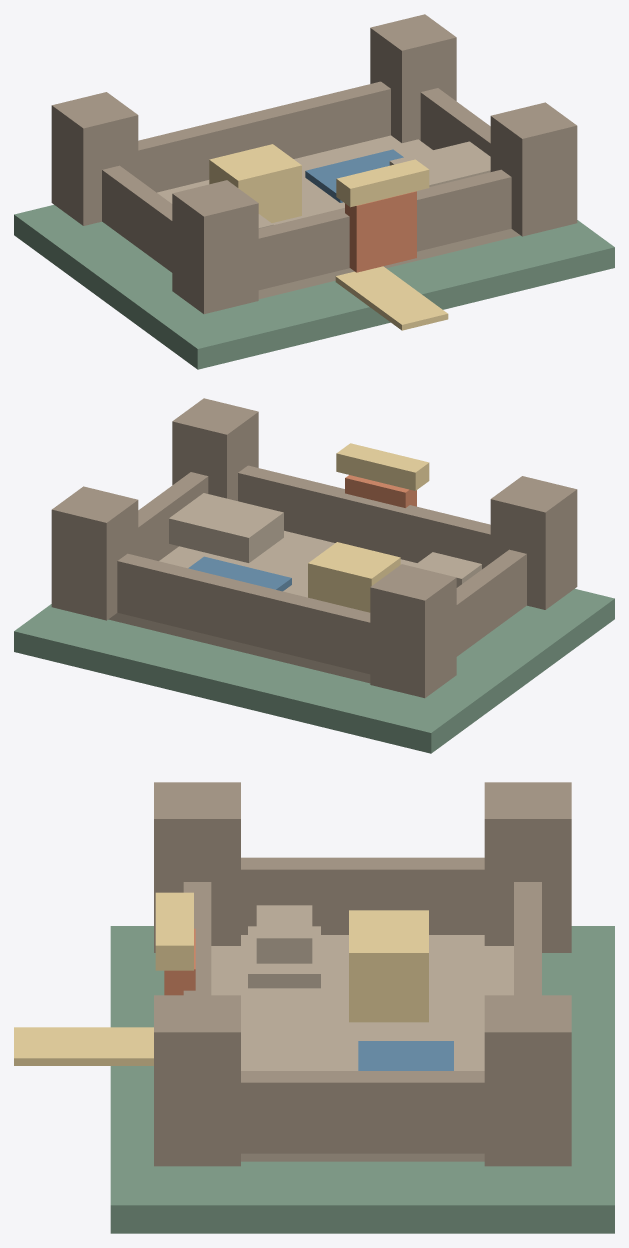
File: sinhagad-fort.gltf
The picture shows the model from 3 angles, top to bottom: view 1: azimuth 30°, elevation 25°; view 2: azimuth 150°, elevation 25°; view 3: azimuth 270°, elevation 25°; orthographic projection. The views are drawn at different scales.
Visible parts, largest first — view 1: terrain-base, rear-wall, front-wall, south-west-bastion, south-east-bastion, north-west-bastion, north-east-bastion, main-courtyard, left-wall, inner-shrine, main-gate, trek-path (+4 smaller); view 2: terrain-base, rear-wall, front-wall, north-west-bastion, north-east-bastion, south-west-bastion, south-east-bastion, main-courtyard, viewpoint-platform, left-wall, inner-shrine, right-wall (+4 smaller); view 3: terrain-base, main-courtyard, right-wall, left-wall, north-east-bastion, south-east-bastion, north-west-bastion, south-west-bastion, inner-shrine, trek-path, viewpoint-platform, lookout-step-2 (+6 smaller).
Part boxes in pixels (x1,y1,x2,y2): terrain-base: (14,205,614,369); rear-wall: (138,81,390,192); front-wall: (258,169,511,290); south-west-bastion: (172,180,258,314); south-east-bastion: (490,102,577,236); north-west-bastion: (51,92,138,225); north-east-bastion: (370,14,456,142); main-courtyard: (157,135,520,299); left-wall: (102,165,172,272); inner-shrine: (209,144,301,222); main-gate: (345,191,416,272); trek-path: (335,266,448,330); terrain-base: (14,589,614,753); rear-wall: (117,553,370,674); front-wall: (238,465,490,569); north-west-bastion: (370,564,456,698); north-east-bastion: (51,486,138,620); south-west-bastion: (490,476,577,609); south-east-bastion: (172,398,258,500); main-courtyard: (108,530,416,683); viewpoint-platform: (169,493,283,562); left-wall: (456,549,526,656); inner-shrine: (308,542,400,612); right-wall: (138,472,208,560); terrain-base: (110,926,614,1233); main-courtyard: (211,935,513,1161); right-wall: (241,1071,484,1153); left-wall: (241,857,484,934); north-east-bastion: (484,995,571,1166); south-east-bastion: (154,995,240,1166); north-west-bastion: (484,782,571,952); south-west-bastion: (154,782,240,952); inner-shrine: (349,910,428,1022); trek-path: (14,1027,153,1065); viewpoint-platform: (254,1035,349,1070); lookout-step-2: (256,905,312,963).
Size of the model in its own units: 3.8 by 1.19 by 3.46.
